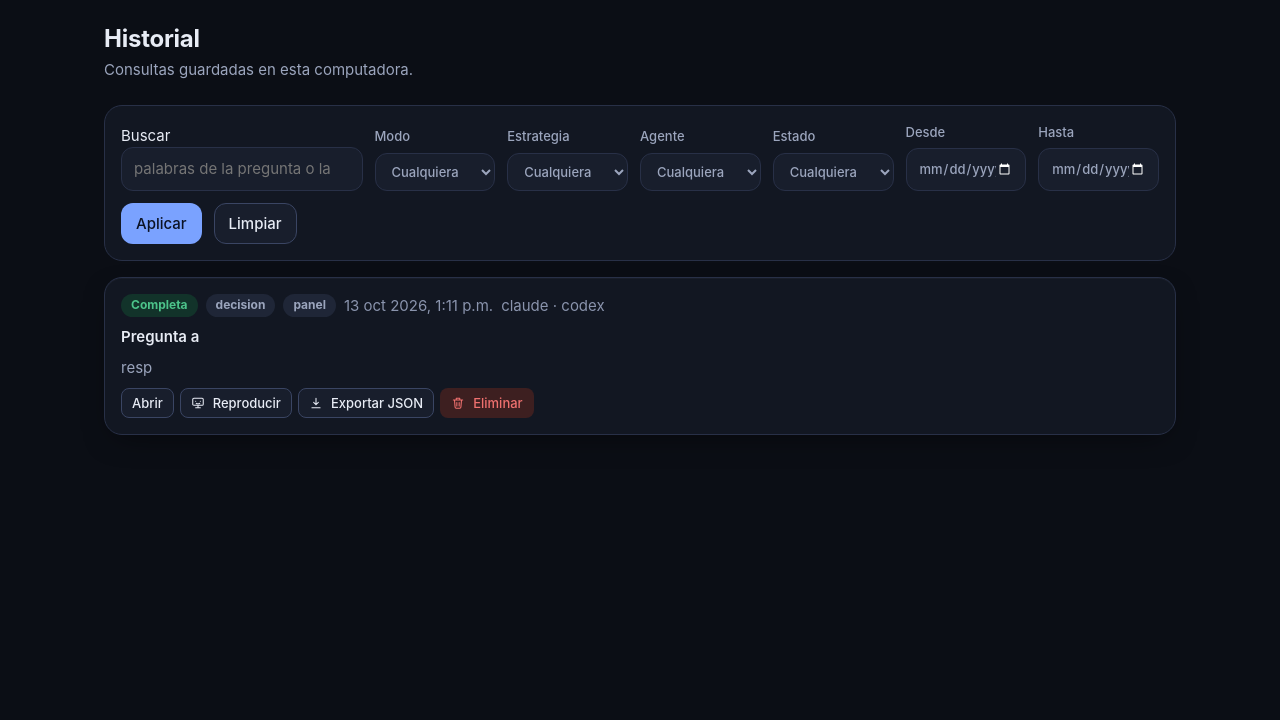
Test: history › deleting needs a confirmation dialog
The image size is (1280, 720).
Expected: the link "Pregunta a" is shown, [121,327,199,346]
Click the button "Eliminar": x=487, y=403 [440,388,534,418]
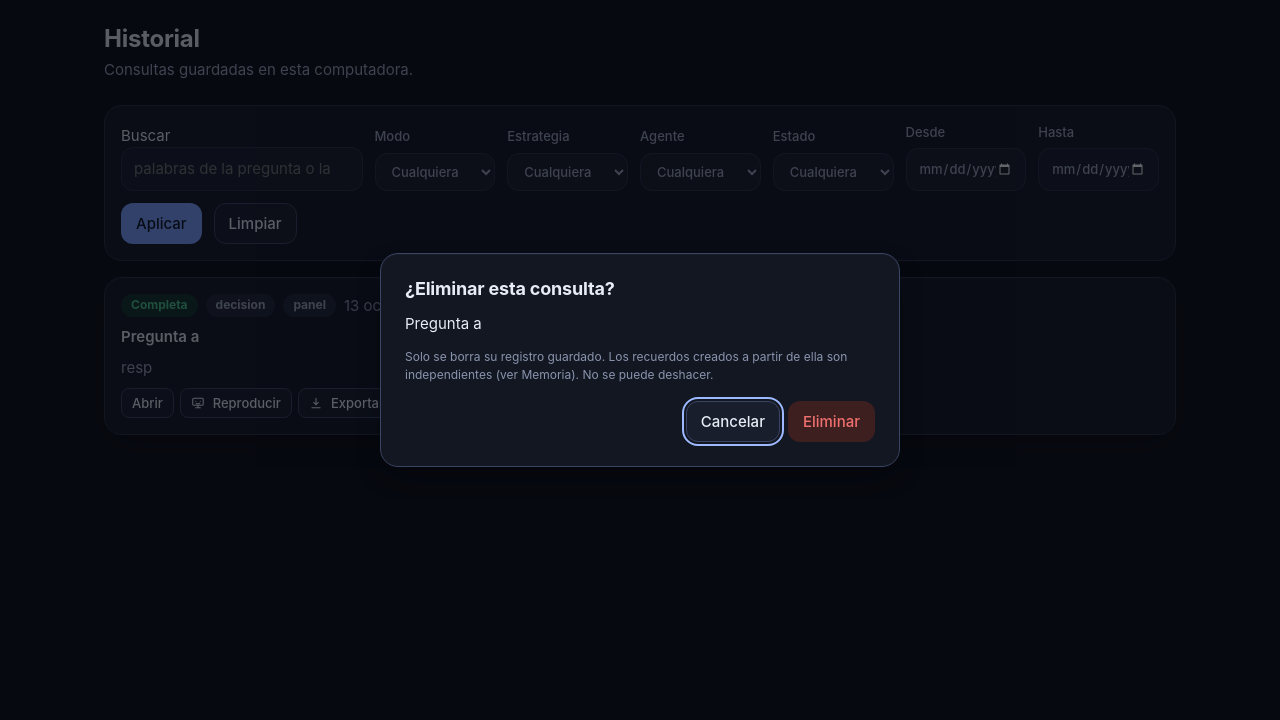
Click the button "Cancelar": x=733, y=421 [686,401,780,442]
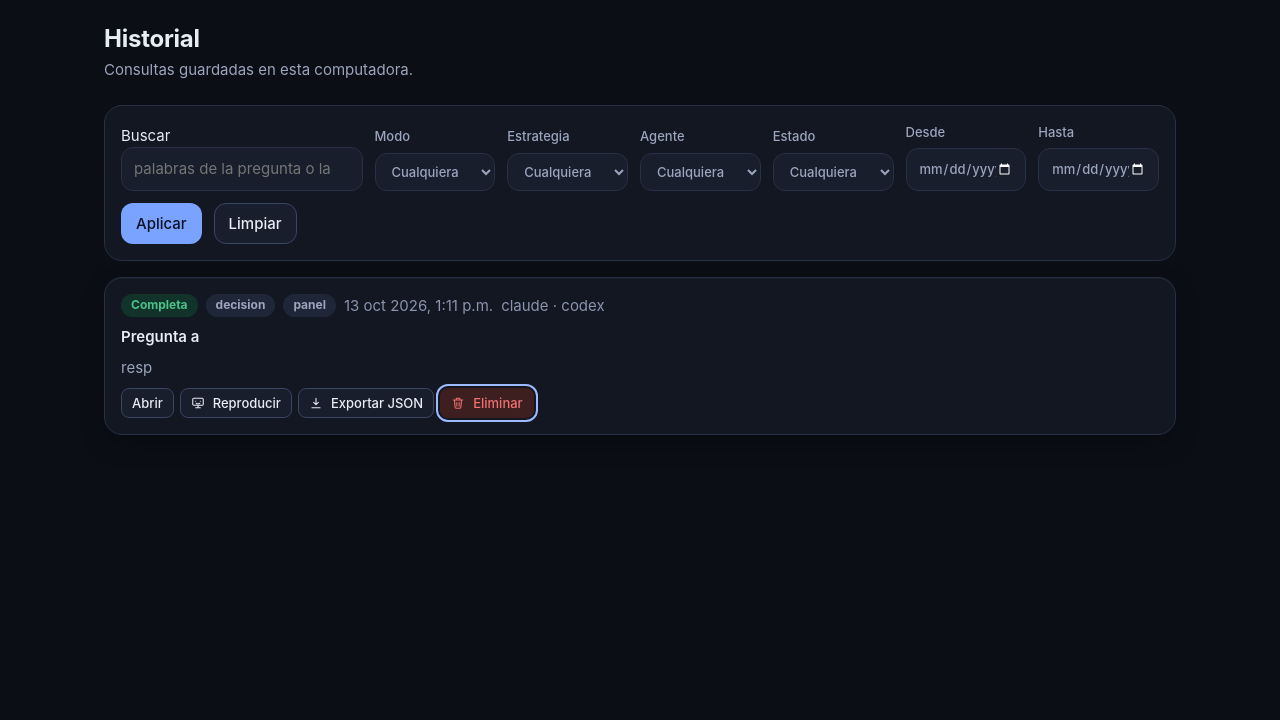
Click the button "Eliminar": x=487, y=403 [440,388,534,418]
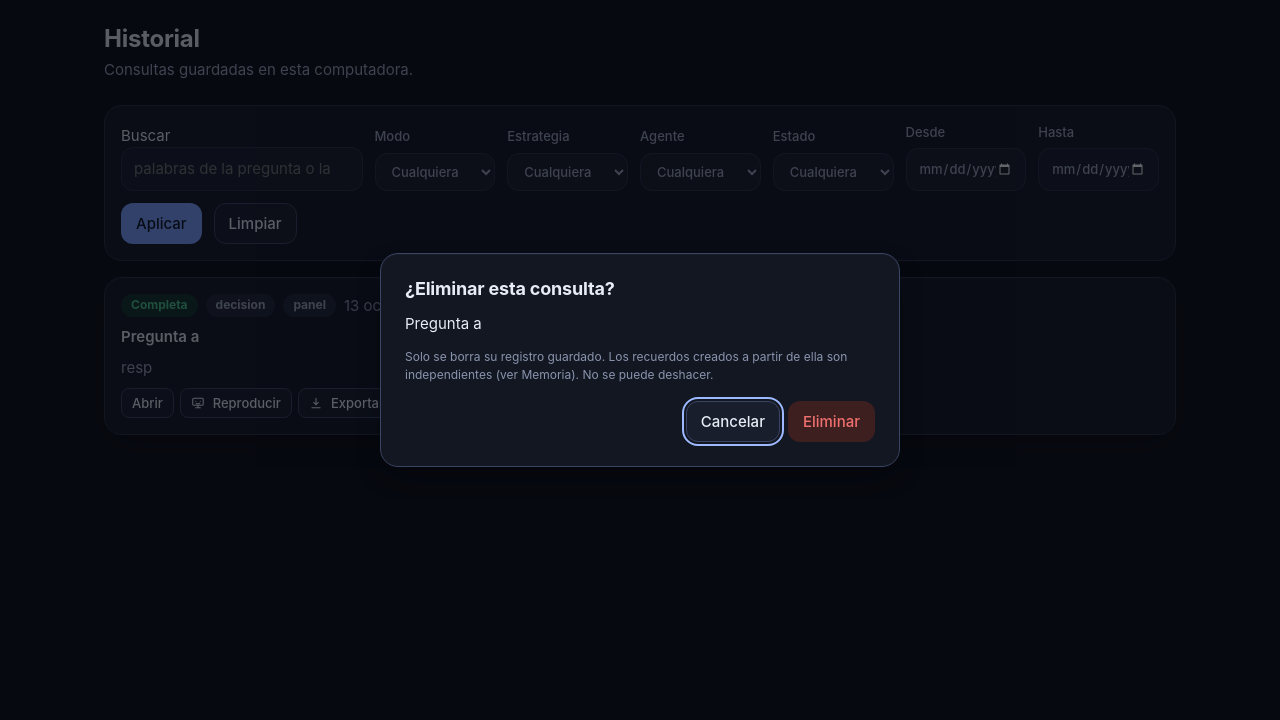
Click the button "Eliminar": x=831, y=421 [788,401,875,442]
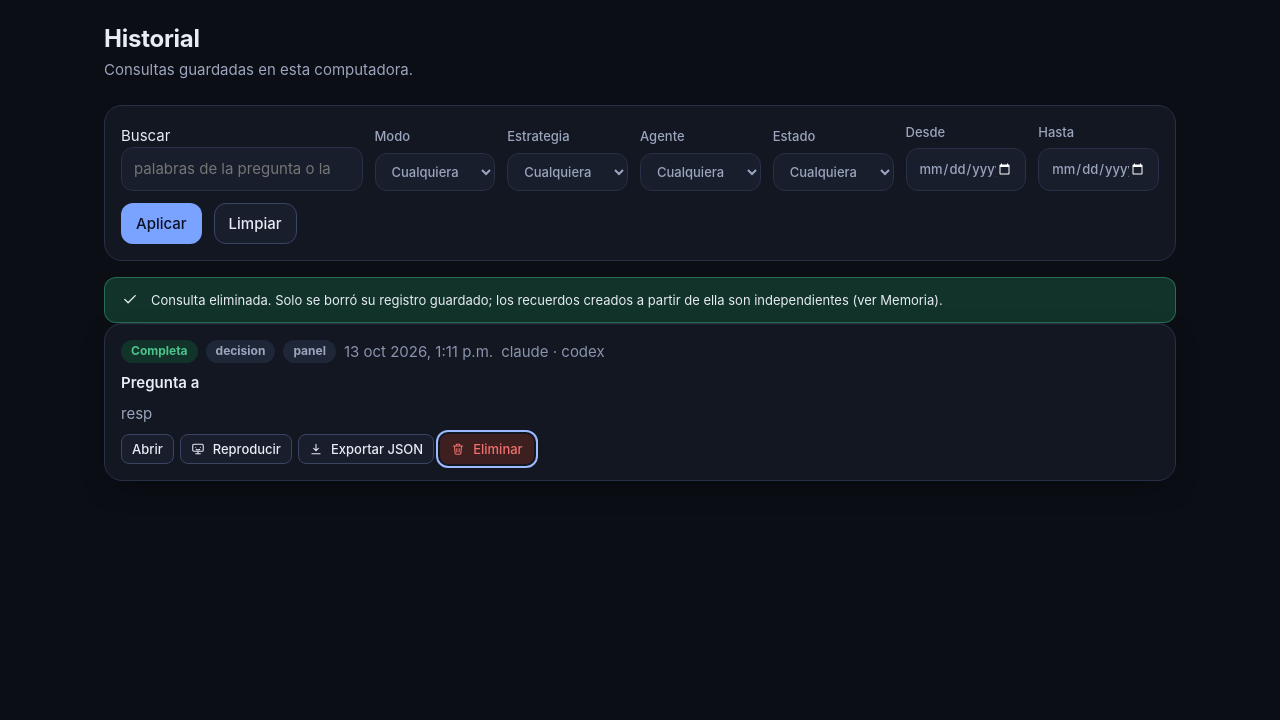
Expected: the text "Consulta eliminada. Solo se borró su registro guardado" is shown, [151,292,943,308]
